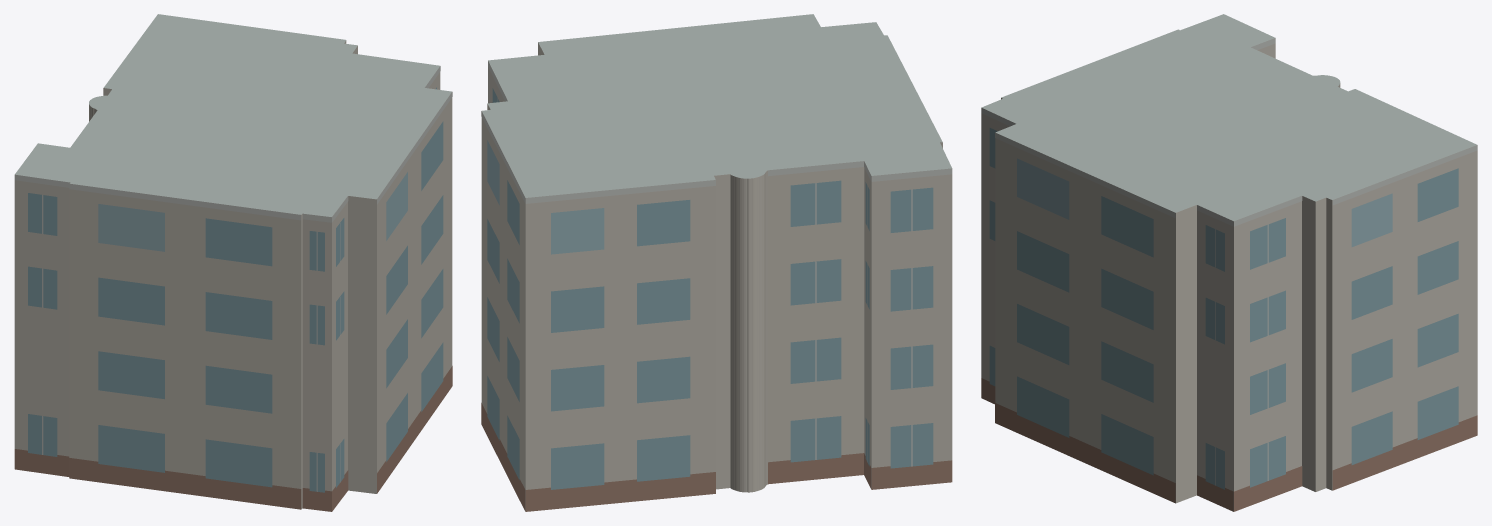
The model's file is survey-upis-32930578.glb.
The picture shows the model from 3 angles, left to right: view 1: azimuth 30°, elevation 25°; view 2: azimuth 150°, elevation 25°; view 3: azimuth 270°, elevation 25°; orthographic projection. The views are drawn at different scales.
Visible parts, largest first — view 1: survey-upis-32930578.tmp; view 2: survey-upis-32930578.tmp; view 3: survey-upis-32930578.tmp.
Part boxes in pixels (x1,y1,x2,y2): survey-upis-32930578.tmp: (14, 14, 452, 511); survey-upis-32930578.tmp: (481, 14, 952, 511); survey-upis-32930578.tmp: (981, 14, 1477, 511).
Size of the model in its own units: 19.75 by 12.9 by 19.97.
